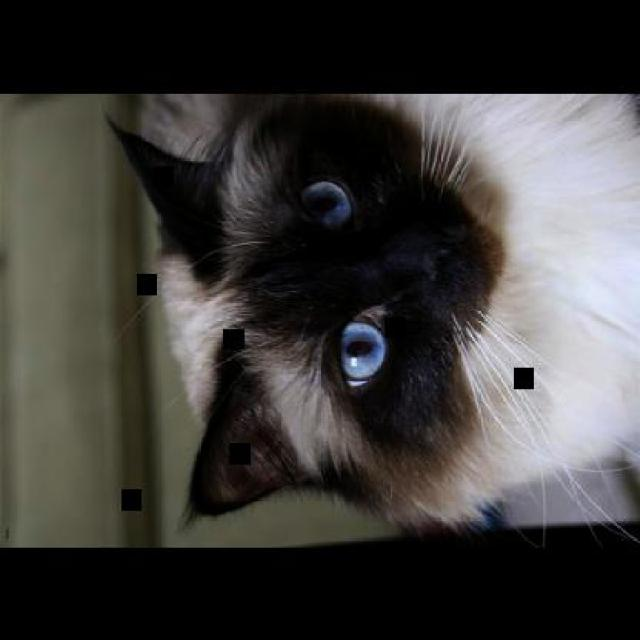unauthorized: (103, 91, 639, 551)
